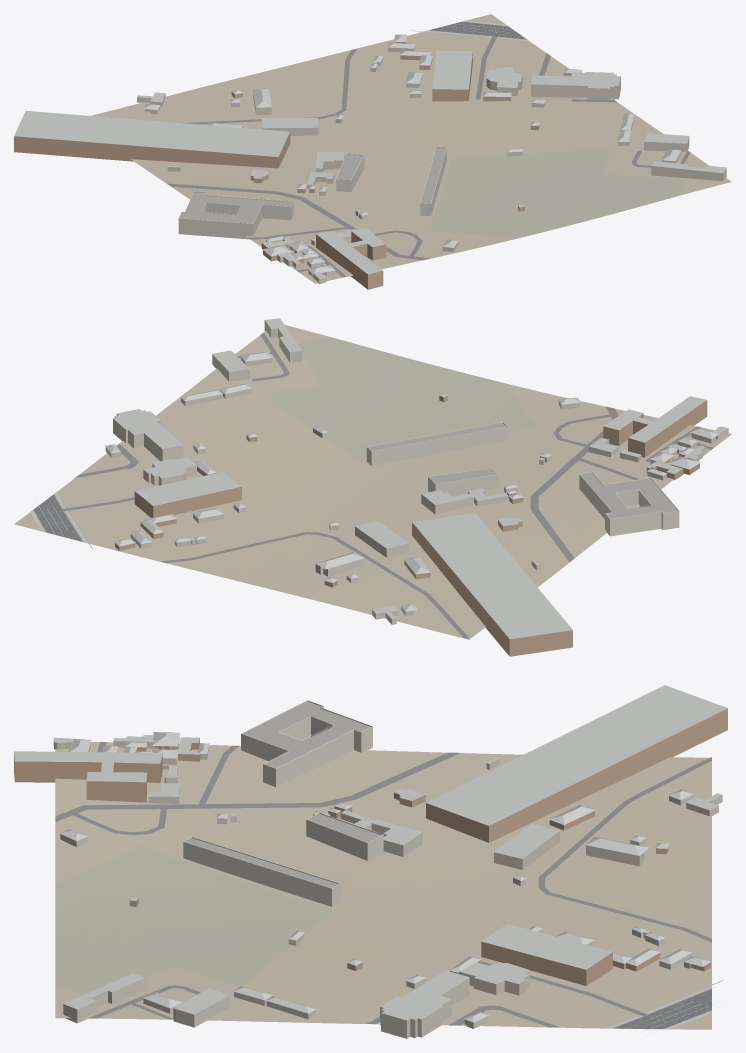
Rendered from bolak_-12_-4.glb.
The picture shows the model from 3 angles, top to bottom: view 1: azimuth 30°, elevation 25°; view 2: azimuth 150°, elevation 25°; view 3: azimuth 270°, elevation 25°; orthographic projection. The views are drawn at different scales.
Visible parts, largest first — view 1: Yer_Tuproq-col, Tom_Shifer, Yer_Qabr, Devor_Gisht-col, Devor_Suvoq-col, Devor_Jamoat-col, Yol_Mahalla-col, Tom_Tekis, Yol_Asfalt-col; view 2: Yer_Tuproq-col, Tom_Shifer, Yer_Qabr, Devor_Gisht-col, Devor_Suvoq-col, Devor_Jamoat-col, Yol_Mahalla-col, Tom_Tekis, Yol_Asfalt-col; view 3: Yer_Tuproq-col, Tom_Shifer, Yer_Qabr, Devor_Gisht-col, Devor_Suvoq-col, Devor_Jamoat-col, Yol_Mahalla-col, Tom_Tekis, Yol_Asfalt-col.
Part boxes in pixels (x1,y1,x2,y2): Yer_Tuproq-col: (91, 14, 731, 283); Tom_Shifer: (14, 34, 726, 278); Yer_Qabr: (430, 148, 685, 237); Devor_Gisht-col: (14, 42, 539, 289); Devor_Suvoq-col: (137, 46, 726, 284); Devor_Jamoat-col: (178, 146, 446, 239); Yol_Mahalla-col: (167, 36, 690, 277); Tom_Tekis: (179, 147, 446, 223); Yol_Asfalt-col: (429, 21, 527, 39); Yer_Tuproq-col: (14, 325, 731, 639); Tom_Shifer: (105, 318, 728, 639); Yer_Qabr: (260, 338, 537, 460); Devor_Gisht-col: (115, 395, 707, 656); Devor_Suvoq-col: (105, 320, 728, 624); Devor_Jamoat-col: (366, 422, 679, 536); Yol_Mahalla-col: (63, 332, 713, 639); Tom_Tekis: (368, 423, 677, 518); Yol_Asfalt-col: (33, 494, 83, 541); Yer_Tuproq-col: (55, 742, 711, 1029); Tom_Shifer: (14, 685, 727, 1022); Yer_Qabr: (55, 846, 333, 995); Devor_Gisht-col: (14, 708, 727, 985); Devor_Suvoq-col: (53, 736, 722, 1038); Devor_Jamoat-col: (183, 700, 383, 906); Yol_Mahalla-col: (55, 742, 711, 1027); Tom_Tekis: (185, 701, 381, 888); Yol_Asfalt-col: (612, 988, 711, 1028).
Size of what is drawn, in the model's own units: 492 by 21.92 by 437.
